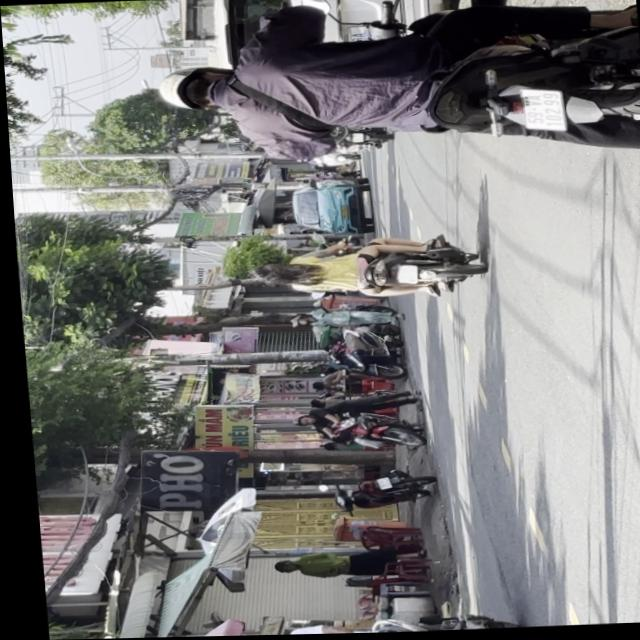helmet: (153, 67, 230, 115)
licenseplate: (142, 0, 640, 173), (243, 235, 481, 307), (237, 611, 516, 636)
motorcyclist: (247, 264, 287, 285)
nohelmet: (517, 92, 562, 135), (392, 267, 413, 285)
